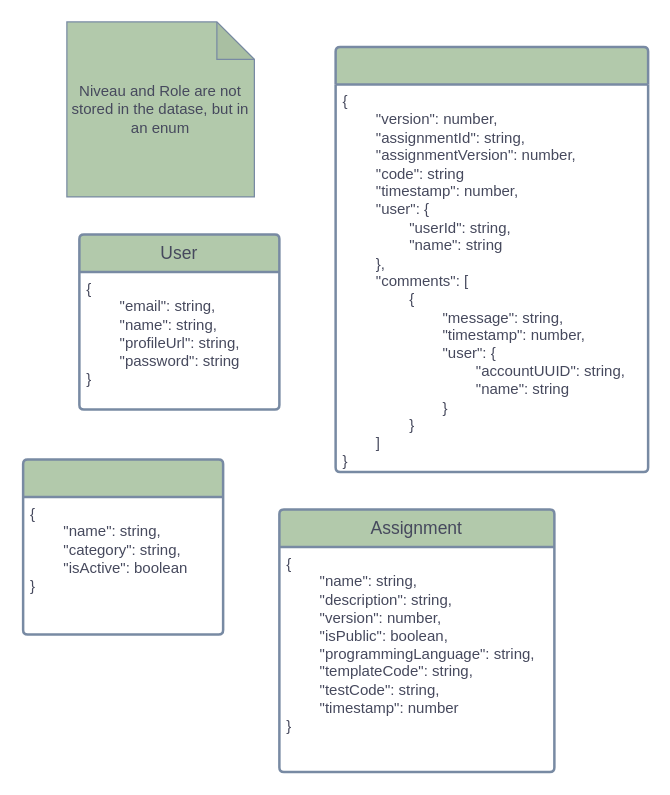
Image size: 670x795. Some labels were removed from this diagram. The box of each missing label's shape, as (x1, y1, x2, y2) in pixels:
Solution: (334, 45, 649, 472)
Tag: (21, 458, 224, 635)
